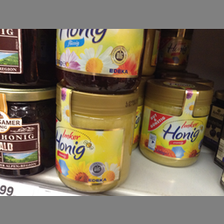honey: (52, 85, 139, 195), (143, 75, 214, 167)
